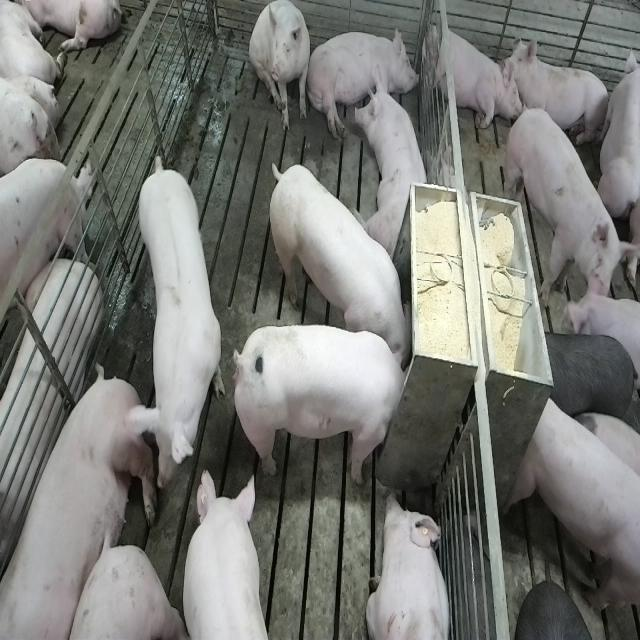Feeding: (264, 161, 412, 367), (228, 322, 410, 483)
Lateral_lying: (4, 366, 164, 640), (0, 257, 103, 595), (306, 24, 421, 140)
Sitting: (249, 1, 312, 134)
Standing: (132, 152, 222, 485), (508, 391, 638, 621), (503, 109, 624, 315), (0, 162, 93, 344), (178, 468, 272, 640), (539, 329, 637, 428)
Sternal_lying: (353, 71, 433, 259), (366, 489, 452, 640), (505, 35, 610, 150), (424, 18, 515, 133)
